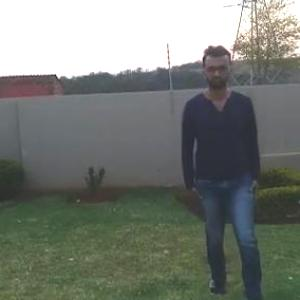follow: (175, 38, 254, 299)
